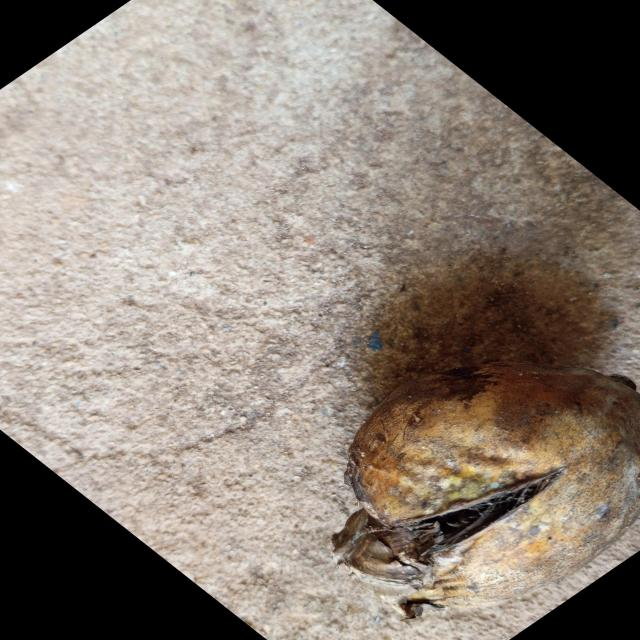damaged: (332, 362, 640, 619)
